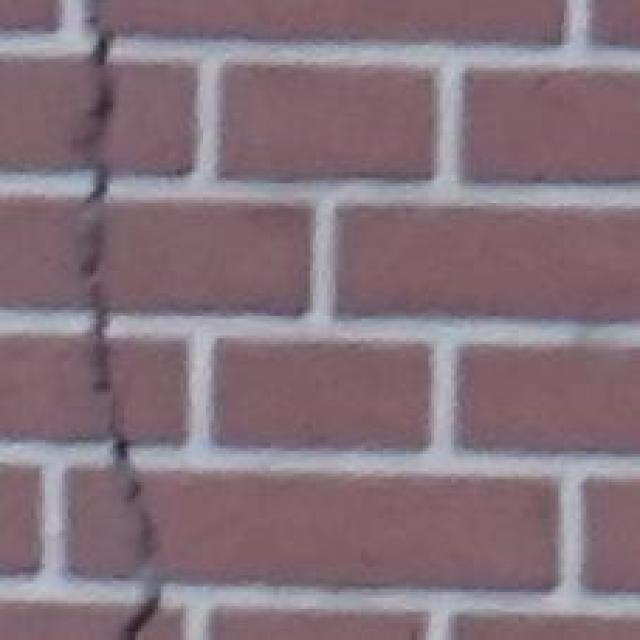Crack: (43, 0, 247, 640)
